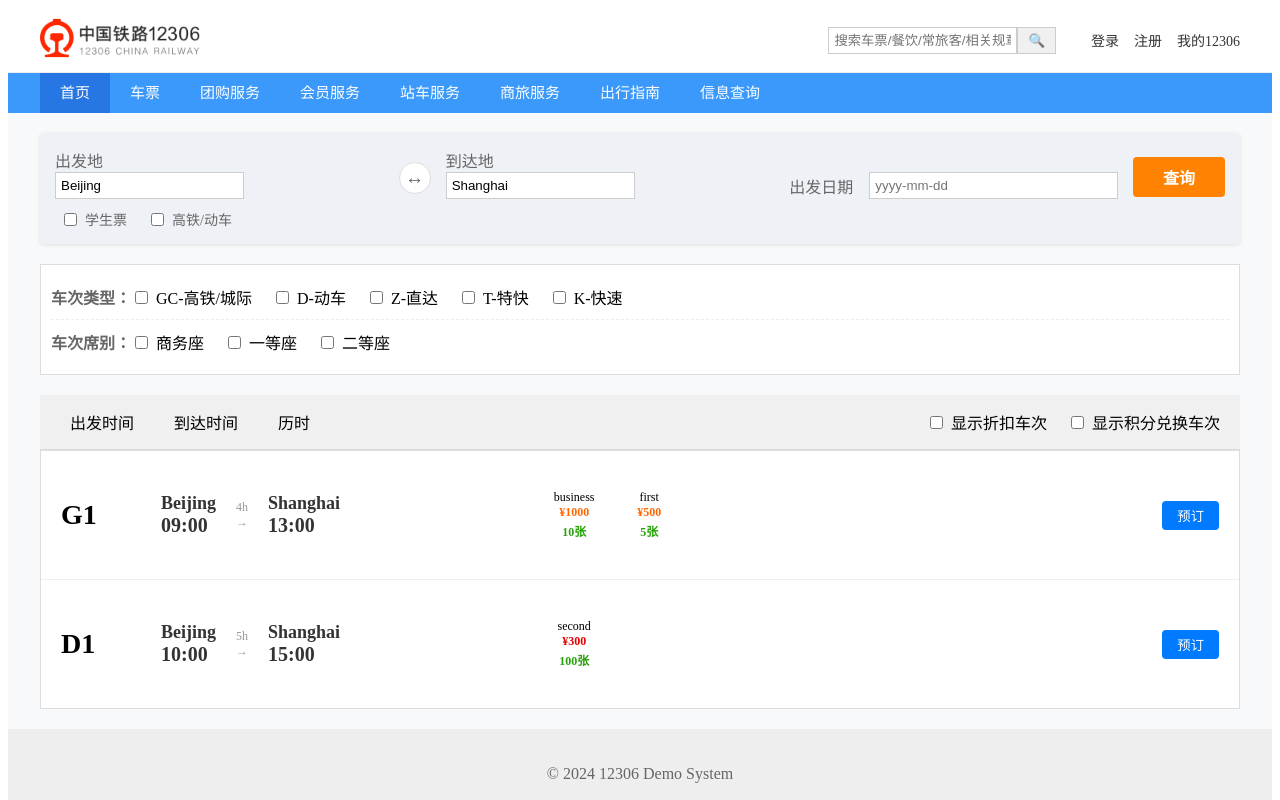
Test: SearchResultPage Integration › filters tickets when filter options are selected
The width and height of the screenshot is (1280, 800).
Expected: the heading "G1" is shown, [61,499,97,530]
Expected: the heading "D1" is shown, [61,628,95,659]
Click to filter ONLY G
Click the checkbox labelled "GC-高铁/城际" at [142, 297], box [135,290,148,304]
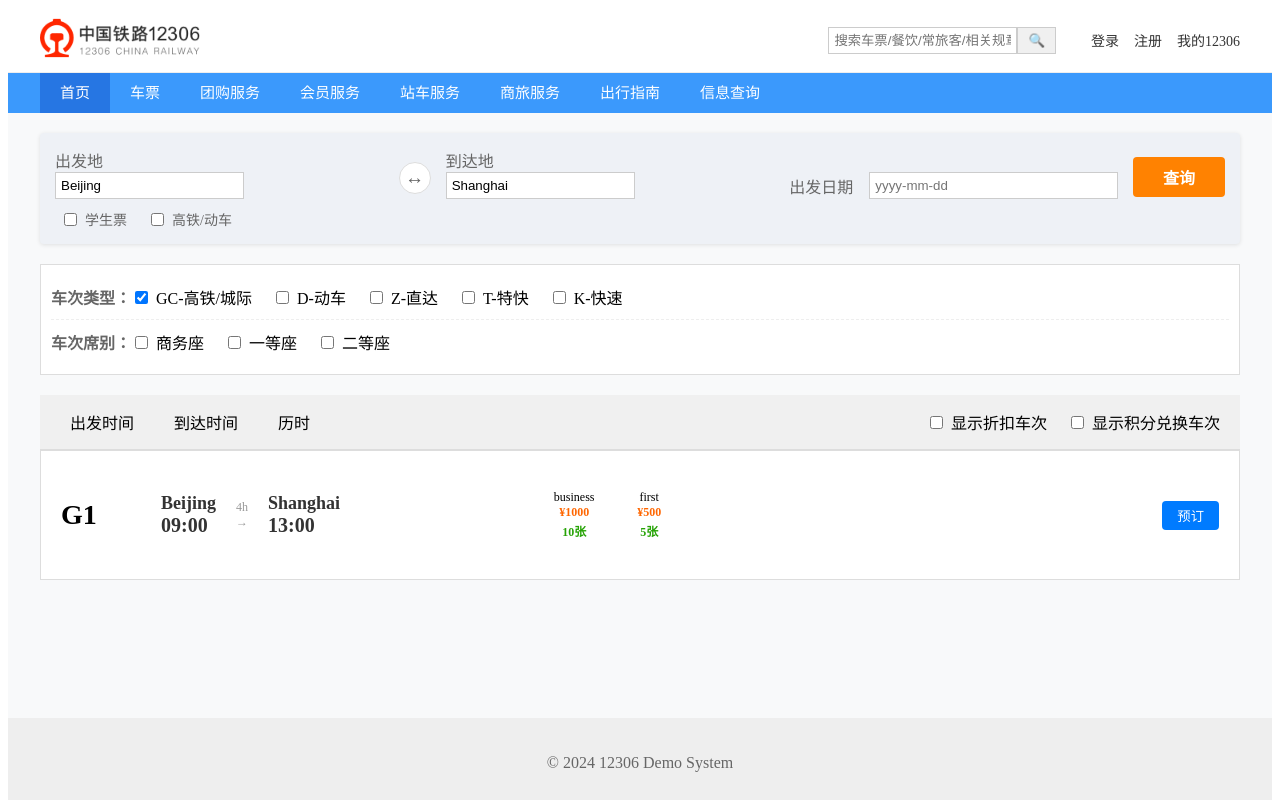
Expected: the heading "G1" is shown, [61,499,97,530]
Expected: the heading "D1" is gone
Uncheck G, should show all
Click the checkbox labelled "GC-高铁/城际" at [142, 297], box [135,290,148,304]
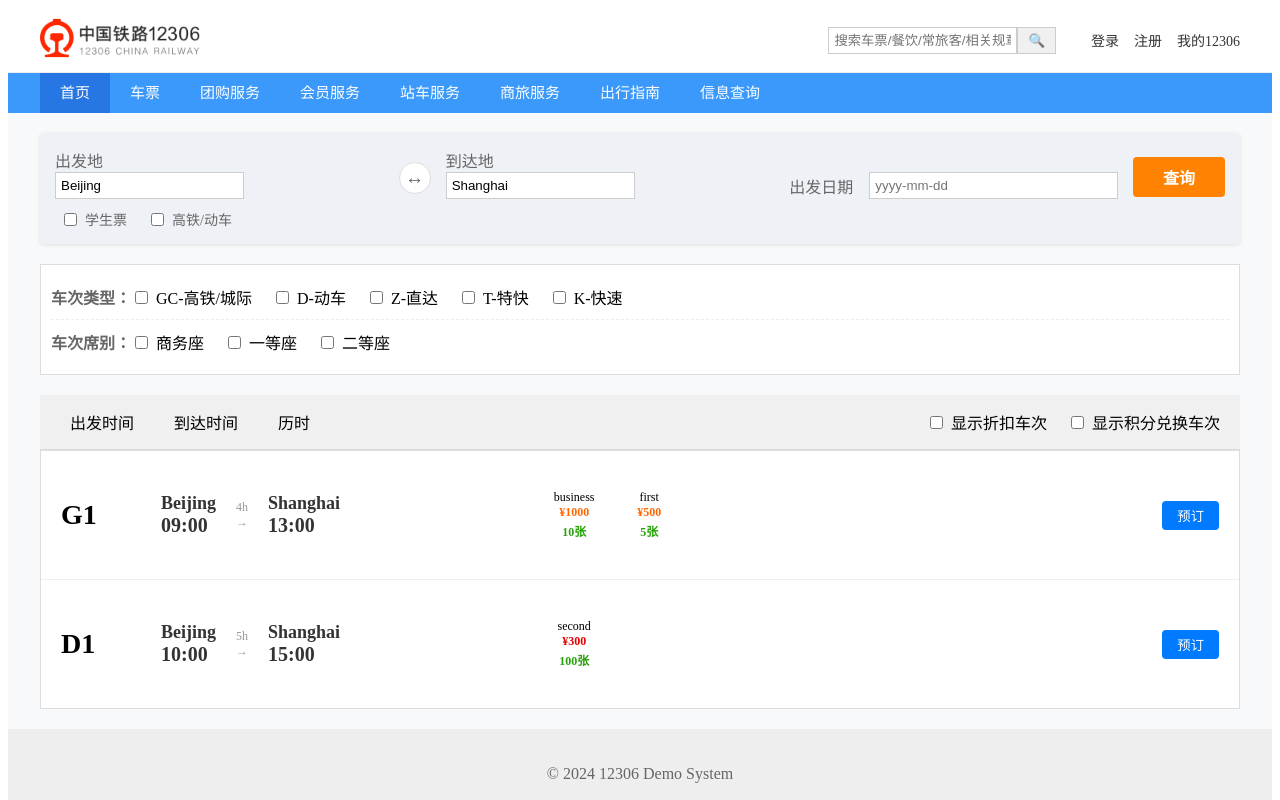
Expected: the heading "G1" is shown, [61,499,97,530]
Expected: the heading "D1" is shown, [61,628,95,659]
